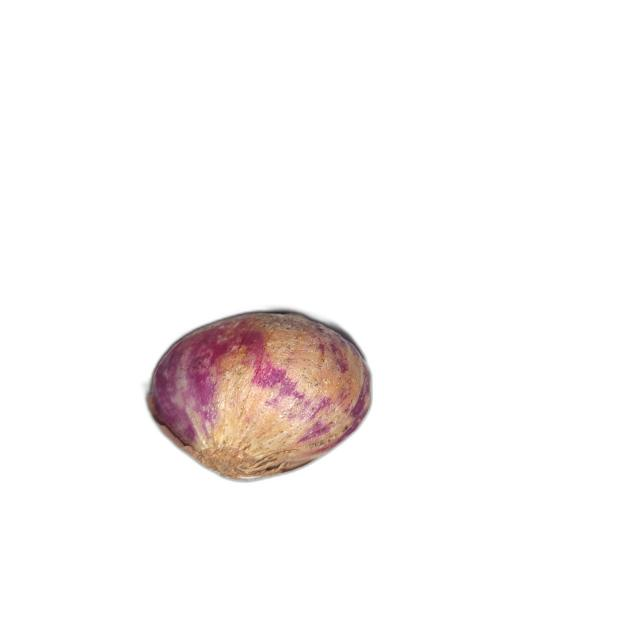onion: (146, 311, 372, 483)
